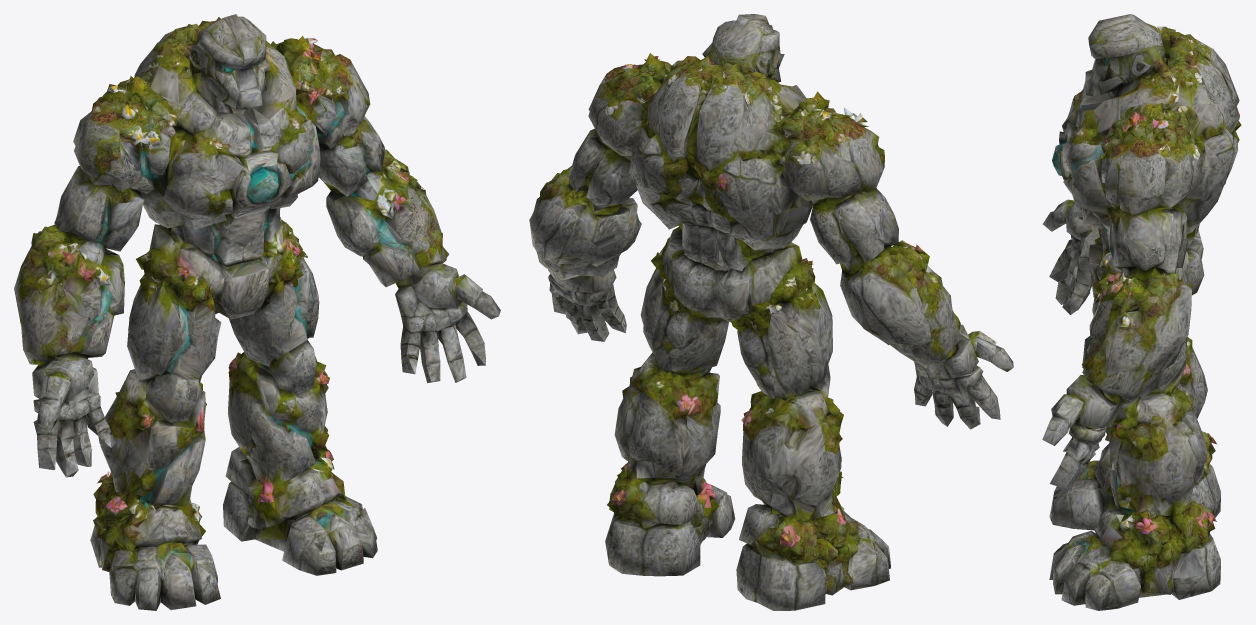
File: stone-golem.glb
3 renders of one model, left to right at view 1: azimuth 30°, elevation 25°; view 2: azimuth 150°, elevation 25°; view 3: azimuth 270°, elevation 25°, orthographic.
Visible parts, largest first — view 1: stone-golem; view 2: stone-golem; view 3: stone-golem.
Boxes of the visible parts, left/top/right/bottom form: stone-golem: left=14, top=14, right=500, bottom=610; stone-golem: left=529, top=14, right=1013, bottom=610; stone-golem: left=1042, top=14, right=1241, bottom=610.
Size of the model in its own units: 5.34 by 6 by 2.03.
1 material, 1 textured.
